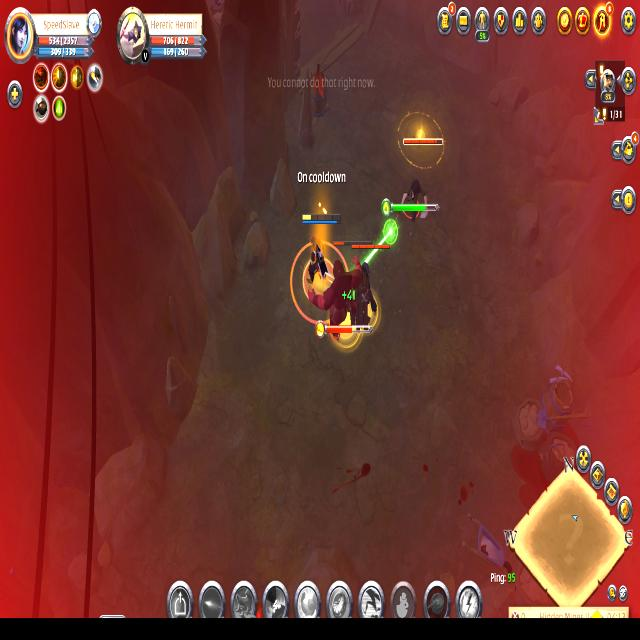ore: (306, 240, 365, 359), (394, 133, 445, 225), (346, 243, 388, 346)
red: (300, 211, 344, 285)
silver: (289, 236, 355, 332)
